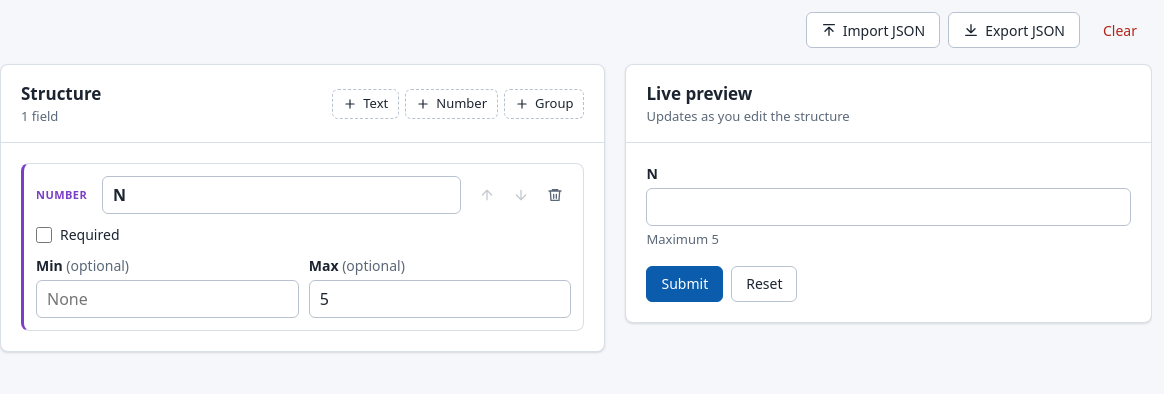
Test: ConfigurableFormBuilder › rejects min greater than max in the builder
Step 1. Type "10" into the field labelled "Min (optional)" → (167,299), box [36, 280, 299, 318]
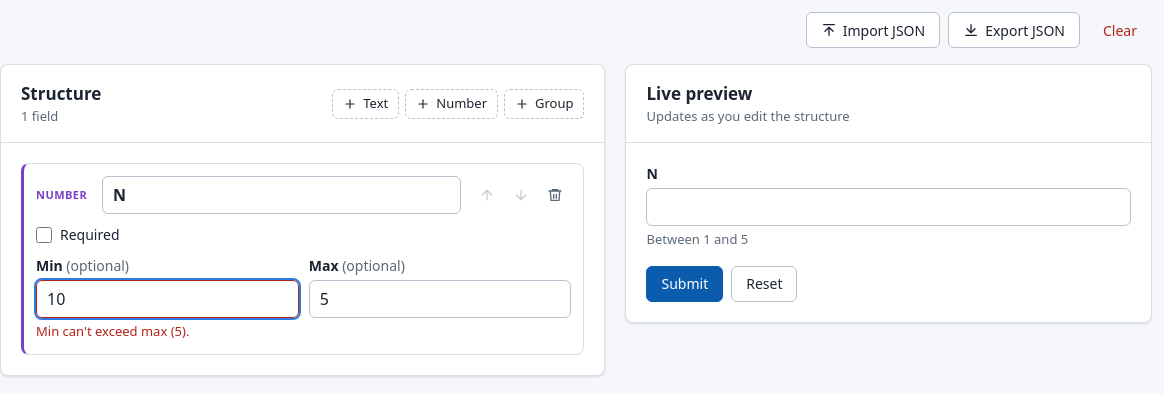
Now the message reads "Min can't exceed max (5).", box [36, 322, 189, 340]
